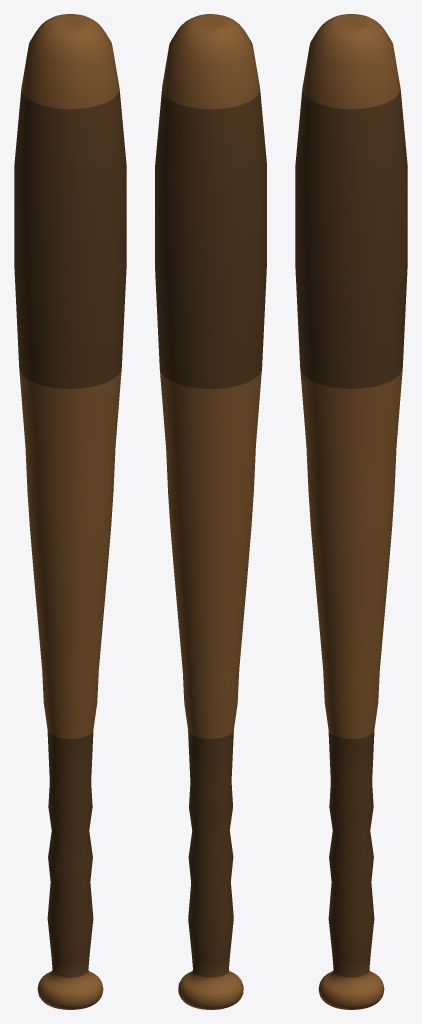
Rendered from bat-wood-e57dd19d654a.glb.
The picture shows the model from 3 angles, left to right: view 1: azimuth 90°, elevation 25°; view 2: azimuth 150°, elevation 25°; view 3: azimuth 270°, elevation 25°; orthographic projection.
Visible parts, largest first — view 1: Bat2; view 2: Bat2; view 3: Bat2.
Boxes of the visible parts, bbox=[...] form: Bat2: bbox=[14, 14, 126, 1009]; Bat2: bbox=[155, 14, 266, 1009]; Bat2: bbox=[295, 14, 407, 1009].
Size of the model in its own units: 0.1041 by 1 by 0.1041.
